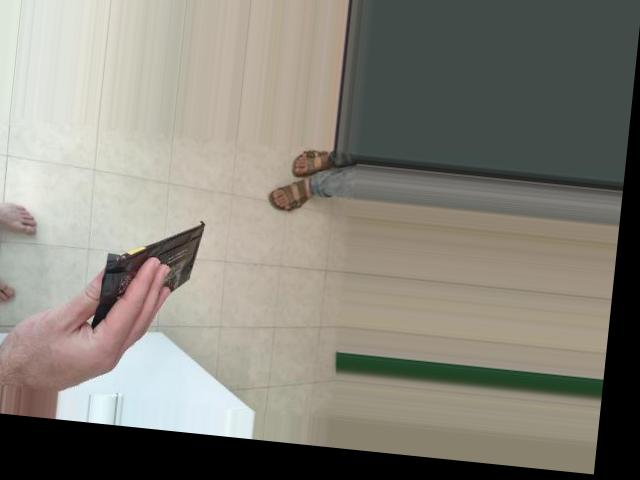chocolate: (122, 139, 274, 270)
